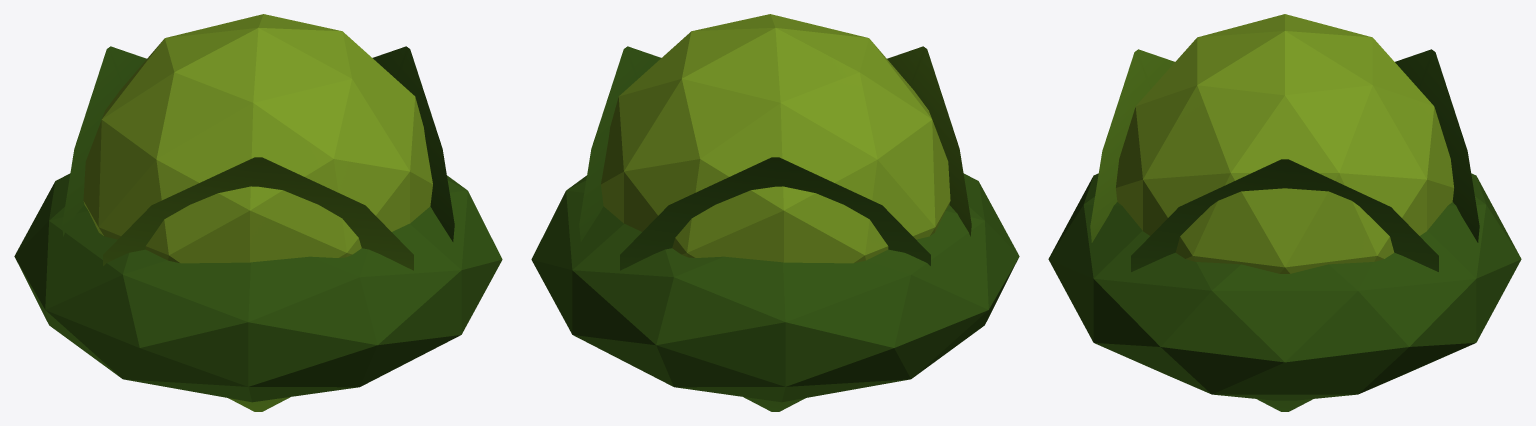
Rendered from pile-lettuce-1.obj.
3 renders of one model, left to right at view 1: azimuth 30°, elevation 25°; view 2: azimuth 150°, elevation 25°; view 3: azimuth 270°, elevation 25°, orthographic.
Parts seen in each view (by area): view 1: pile-lettuce-1; view 2: pile-lettuce-1; view 3: pile-lettuce-1.
Boxes of the visible parts, x1,y1,x2,y2 form: pile-lettuce-1: [14, 14, 502, 411]; pile-lettuce-1: [531, 14, 1019, 411]; pile-lettuce-1: [1048, 14, 1521, 411].
Size of the model in its own units: 0.2016 by 0.1512 by 0.1953.
Materials: 1 (1 with a texture image).
